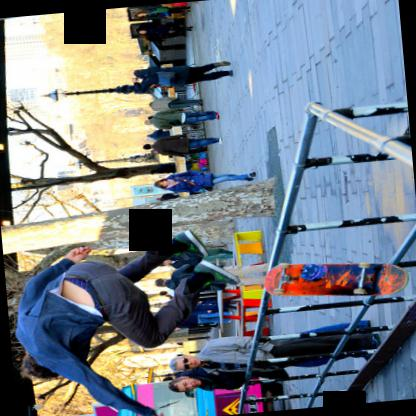backpack: (144, 71, 177, 87), (171, 274, 192, 289)
handbag: (172, 175, 213, 192), (145, 71, 176, 85), (155, 116, 183, 125)
